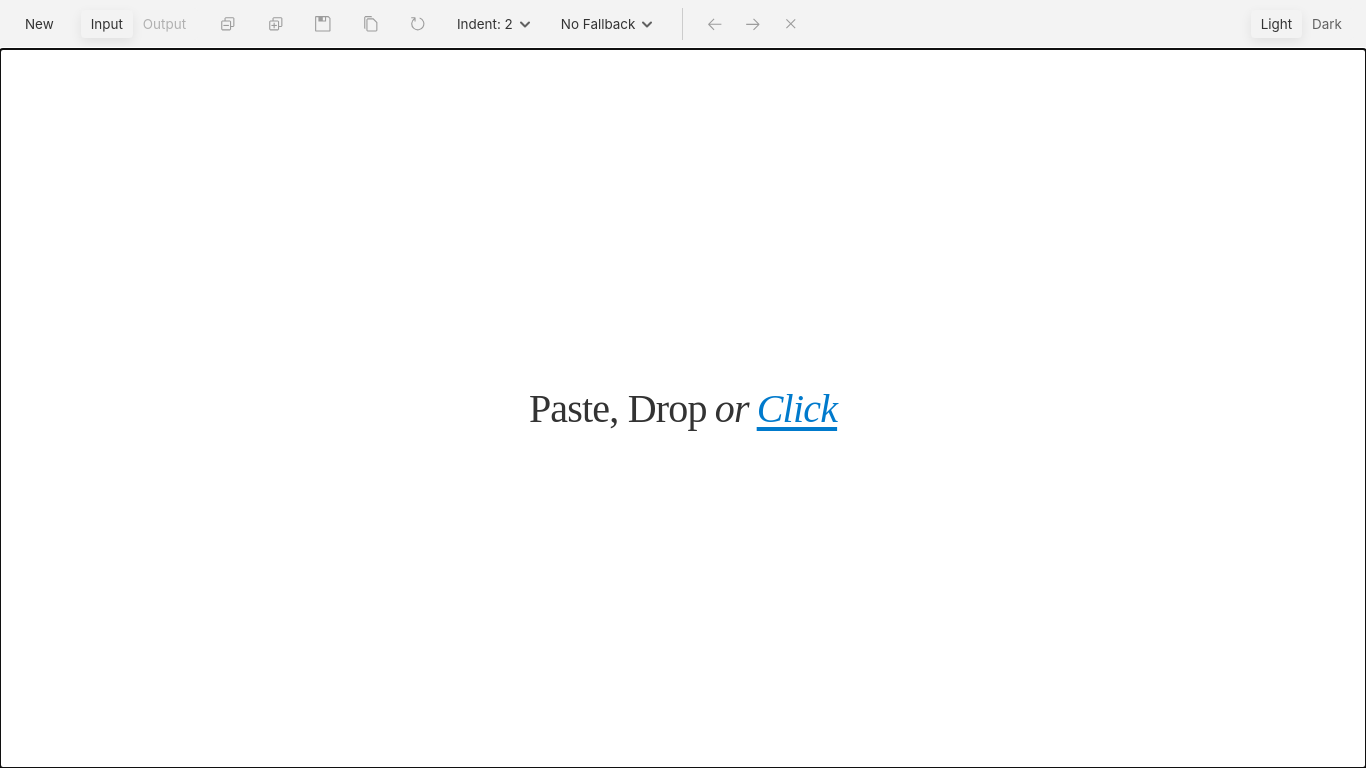
it: App › renders fallback selector with no-fallback and configured agent options
This screenshot has width=1366, height=768.
What coordinates should you click on to do the following:
click the button with test id "fallback-agent-select"
I would click on:
 (607, 24)
Its box is [552,8,662,40].
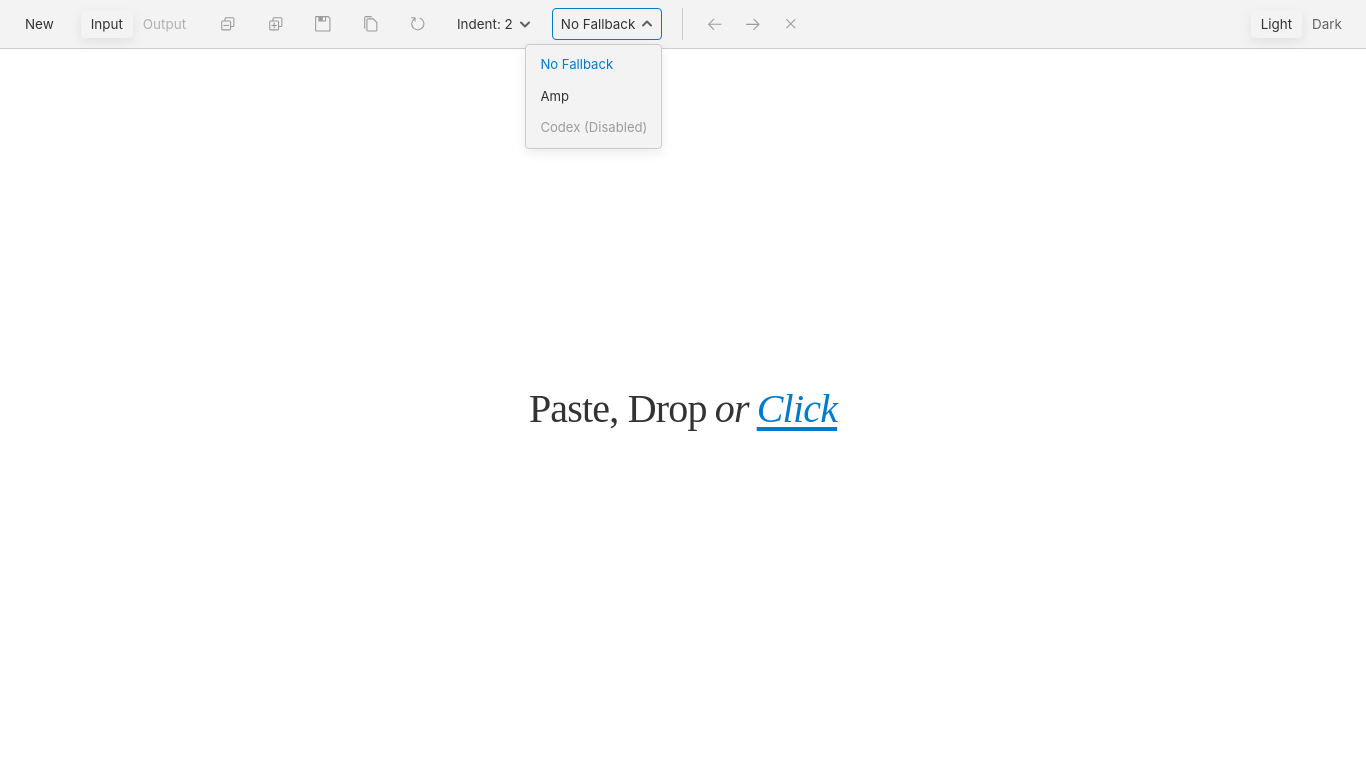
Check: the option with test id "fallback-option-none" reads "No Fallback", box [530,49,657,81]
Check: the option with test id "fallback-option-amp" reads "Amp", box [530,81,657,112]
Check: the option with test id "fallback-option-codex" is disabled, box [530,112,657,144]
